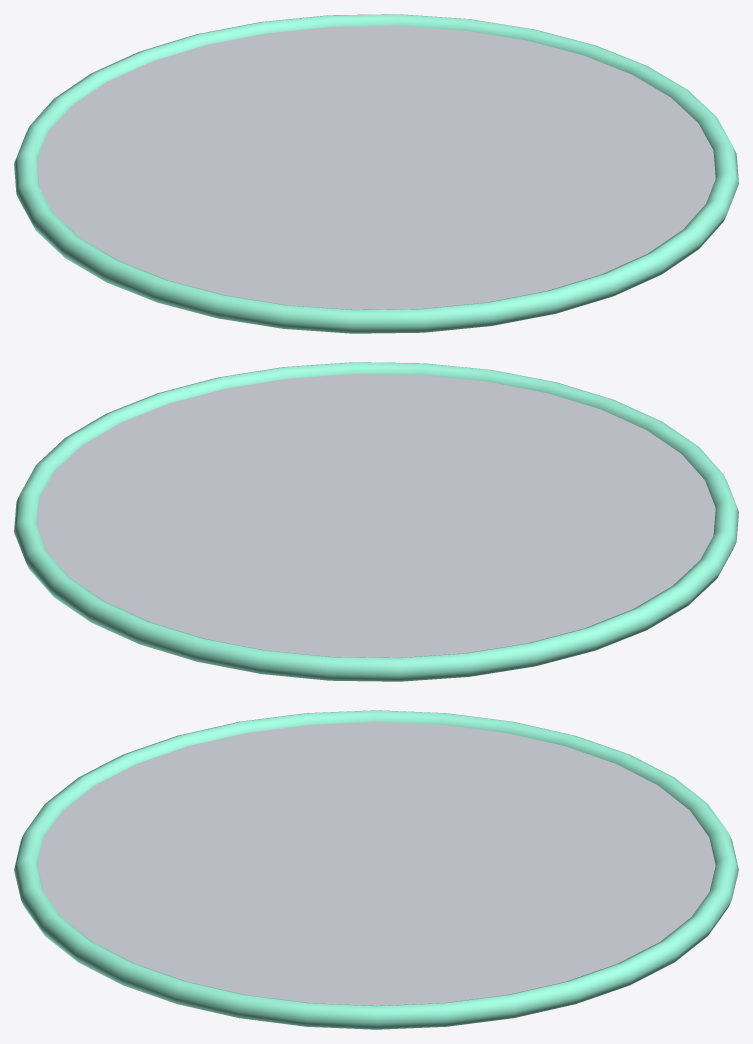
Rendered from raven_left.glb.
3 renders of one model, top to bottom at view 1: azimuth 30°, elevation 25°; view 2: azimuth 150°, elevation 25°; view 3: azimuth 270°, elevation 25°, orthographic.
Parts seen in each view (by area): view 1: raven_left; view 2: raven_left; view 3: raven_left.
Boxes of the visible parts, bbox=[...] form: raven_left: bbox=[14, 14, 738, 333]; raven_left: bbox=[14, 362, 738, 681]; raven_left: bbox=[14, 710, 738, 1029].
Bounding box in the file's own units: 0.86 × 0.03 × 0.86.
